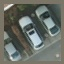car: (40, 6, 57, 36), (21, 18, 38, 48)
